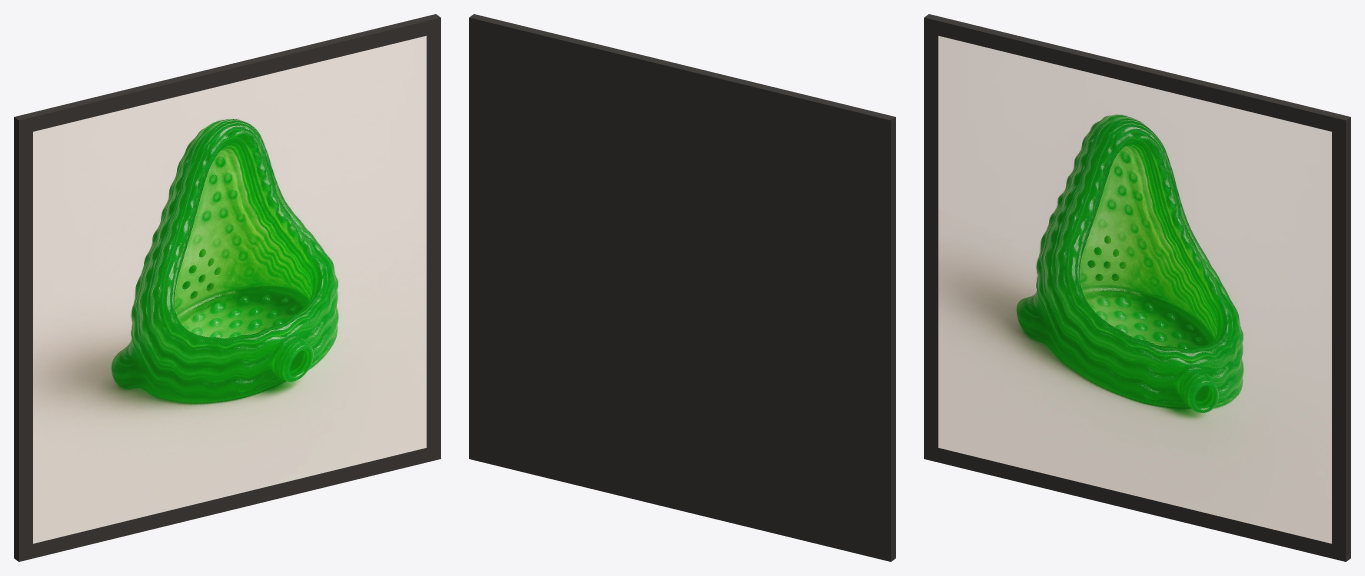
Rendered from picture_01_teether.glb.
The picture shows the model from 3 angles, left to right: view 1: azimuth 30°, elevation 25°; view 2: azimuth 150°, elevation 25°; view 3: azimuth 330°, elevation 25°; orthographic projection.
Visible parts, largest first — view 1: picture_01_teether_nocol; view 2: picture_01_teether_nocol; view 3: picture_01_teether_nocol.
Part boxes in pixels (x1,y1,x2,y2): picture_01_teether_nocol: (14, 14, 440, 561); picture_01_teether_nocol: (469, 14, 895, 561); picture_01_teether_nocol: (924, 14, 1350, 561).
Size of the model in its own units: 1.5 by 1.5 by 0.03.
2 materials, 1 textured.
